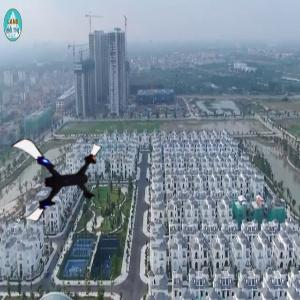drone: (9, 136, 103, 230)
